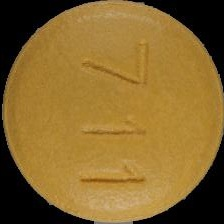61919-817: (0, 0, 224, 224)
